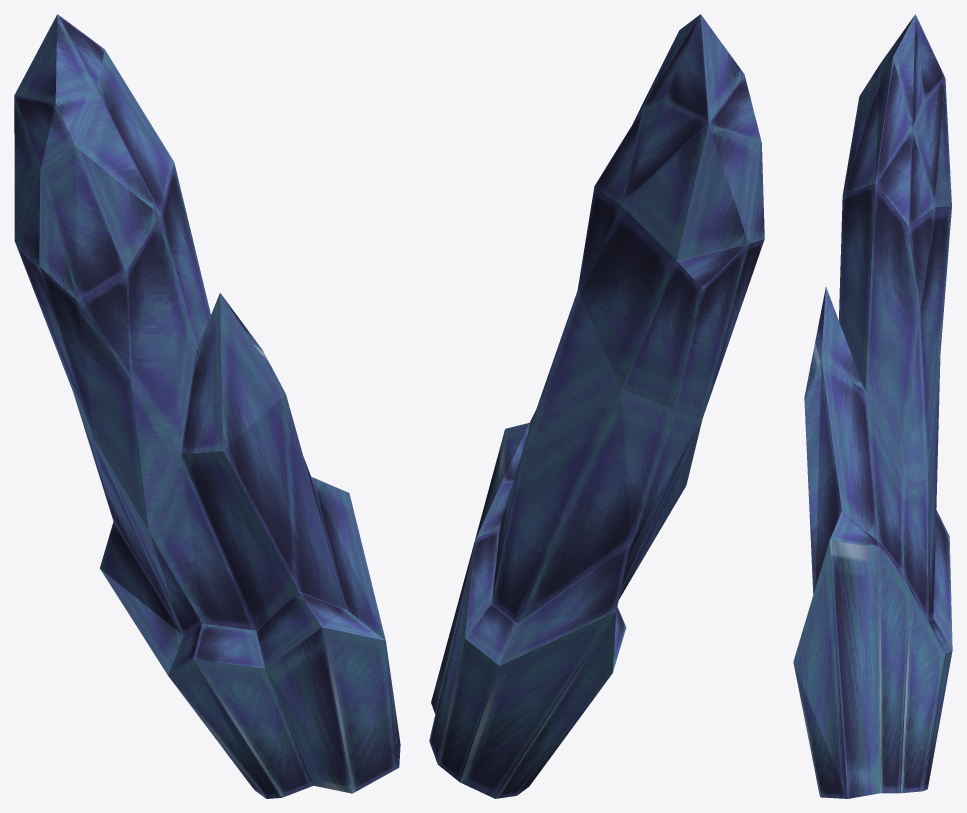
The model's file is crystalslarge01.fbx.
3 renders of one model, left to right at view 1: azimuth 30°, elevation 25°; view 2: azimuth 150°, elevation 25°; view 3: azimuth 270°, elevation 25°, orthographic. The views are drawn at different scales.
Parts seen in each view (by area): view 1: Geoset_0; view 2: Geoset_0; view 3: Geoset_0.
Boxes of the visible parts, x1=… form: Geoset_0: x1=14, y1=14, x2=400, y2=798; Geoset_0: x1=429, y1=14, x2=764, y2=798; Geoset_0: x1=793, y1=14, x2=952, y2=798.
Size of the model in its own units: 1.35 by 3.02 by 0.6282.
1 material, 1 textured.
